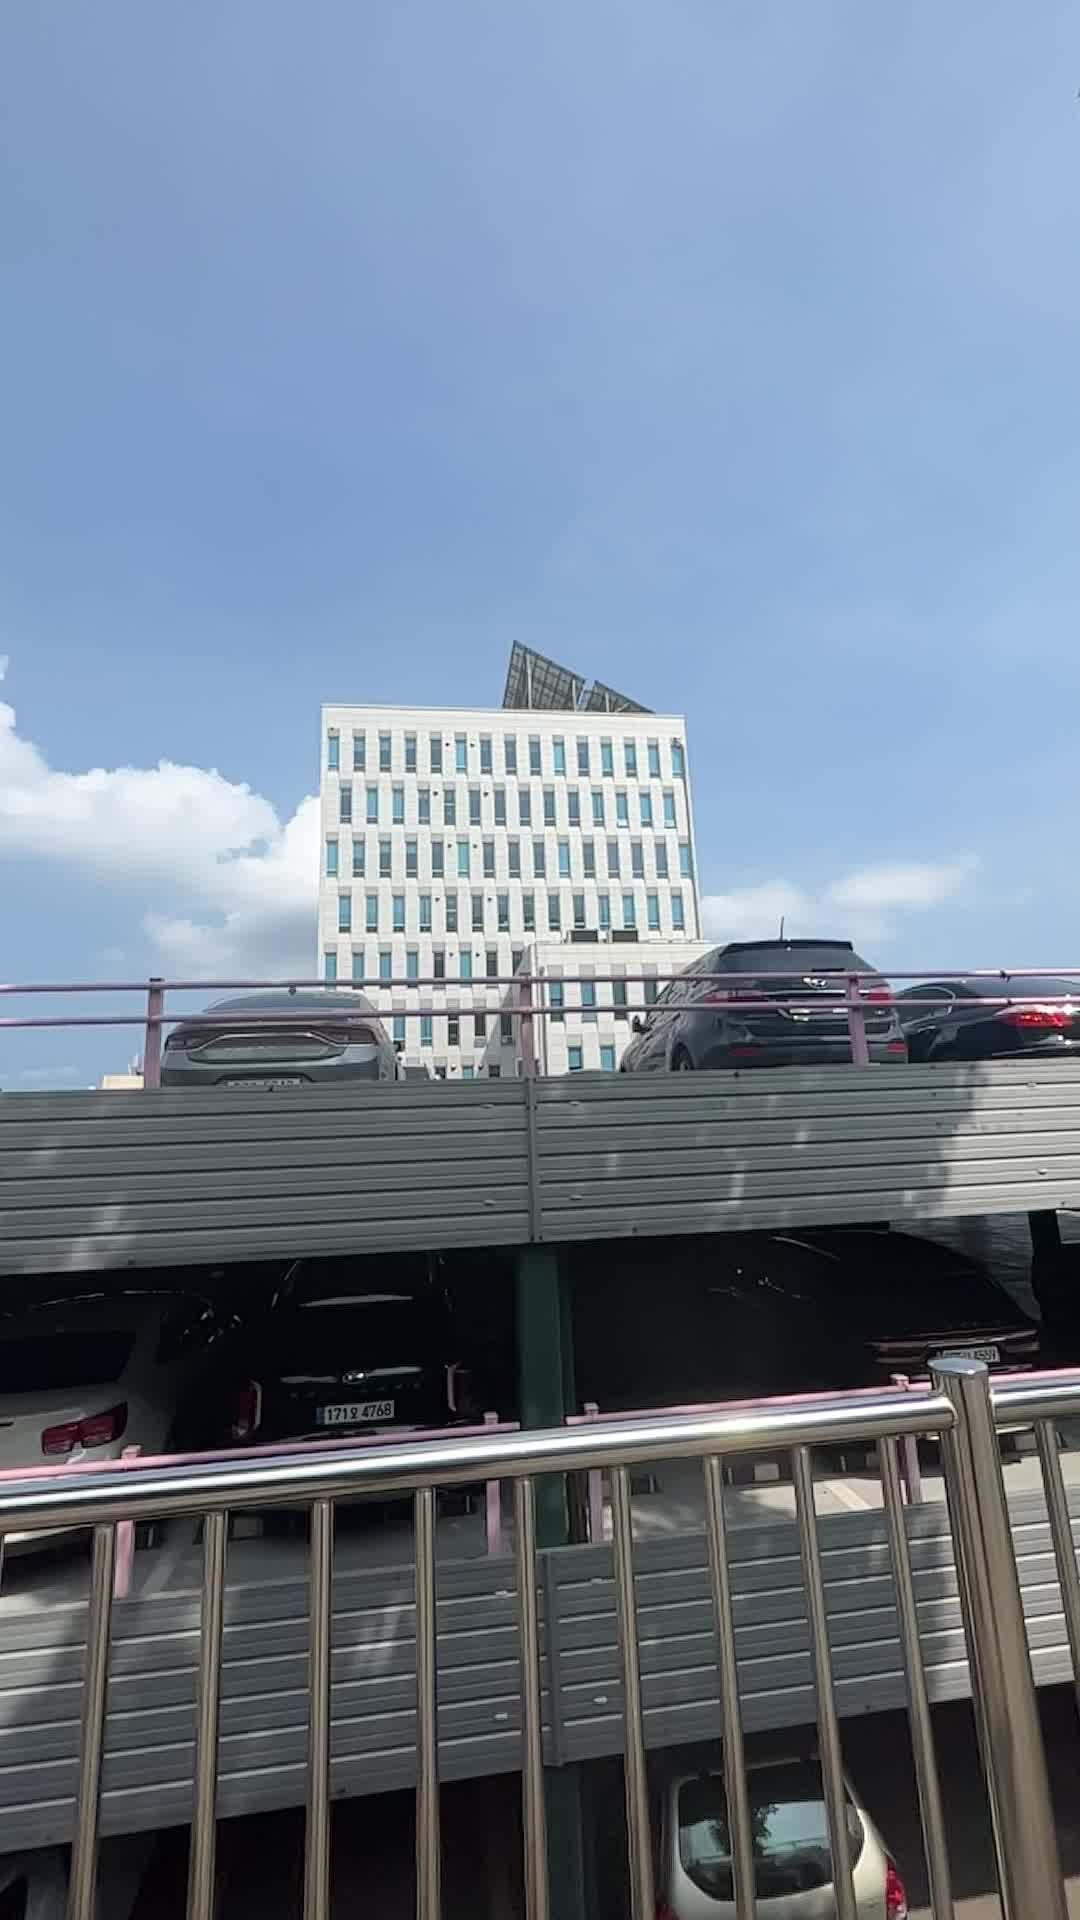building: (257, 608, 708, 960)
